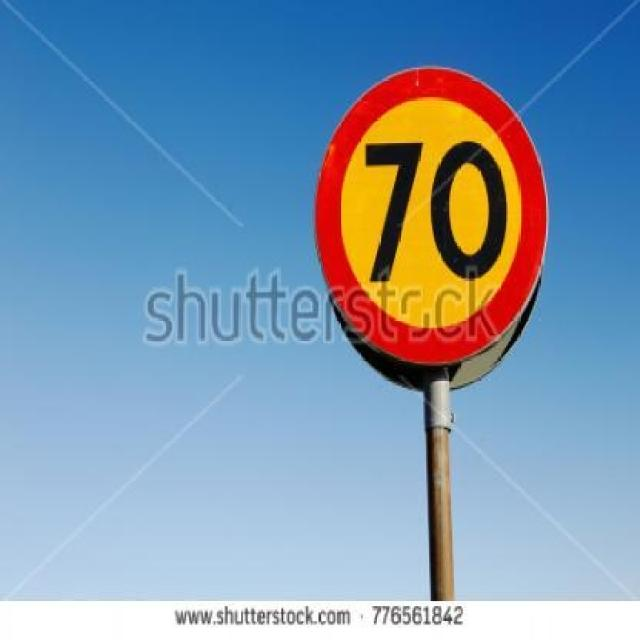forb_speed_over_70: (319, 66, 544, 357)
